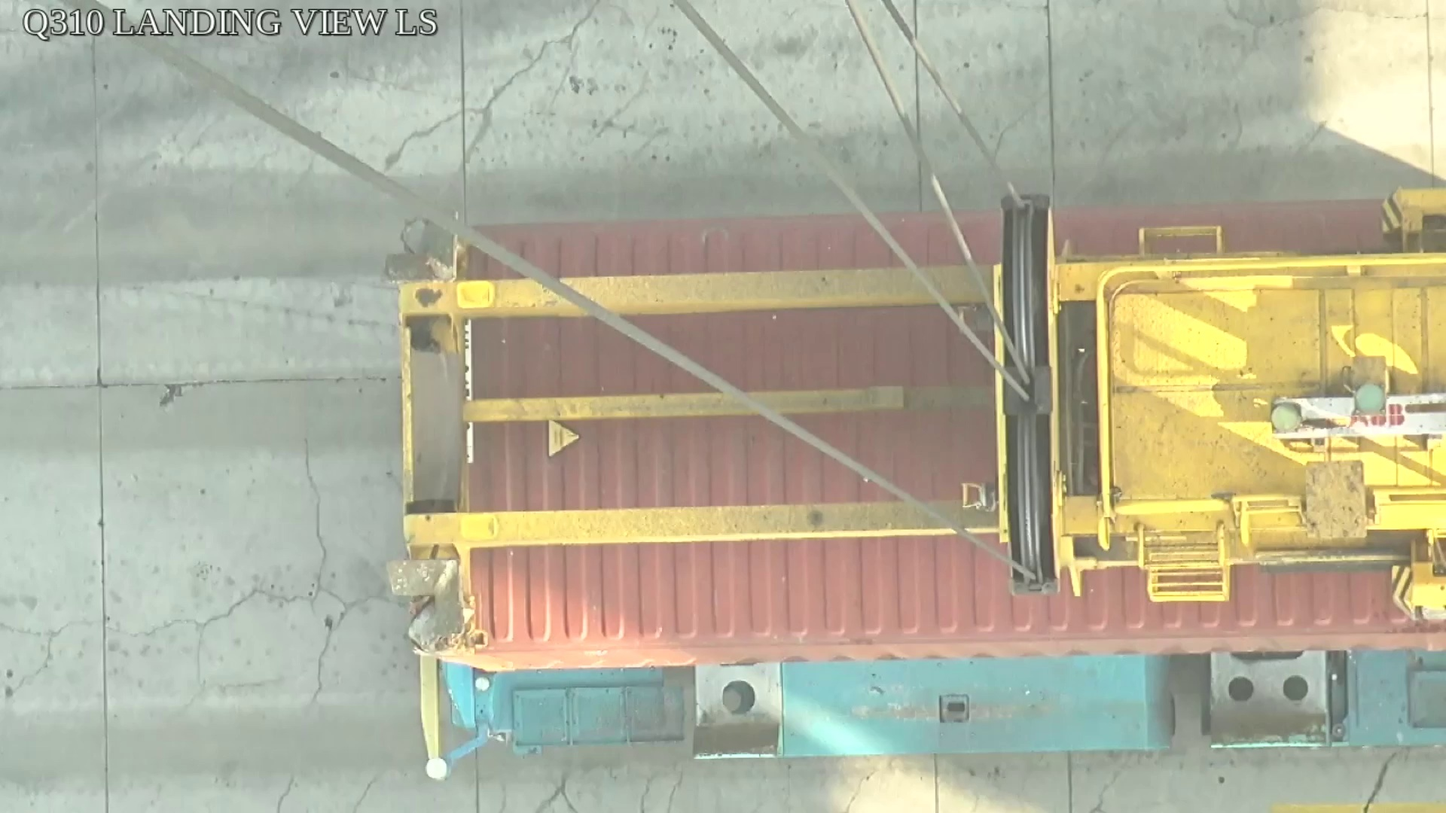aa: (994, 199, 1065, 596)
